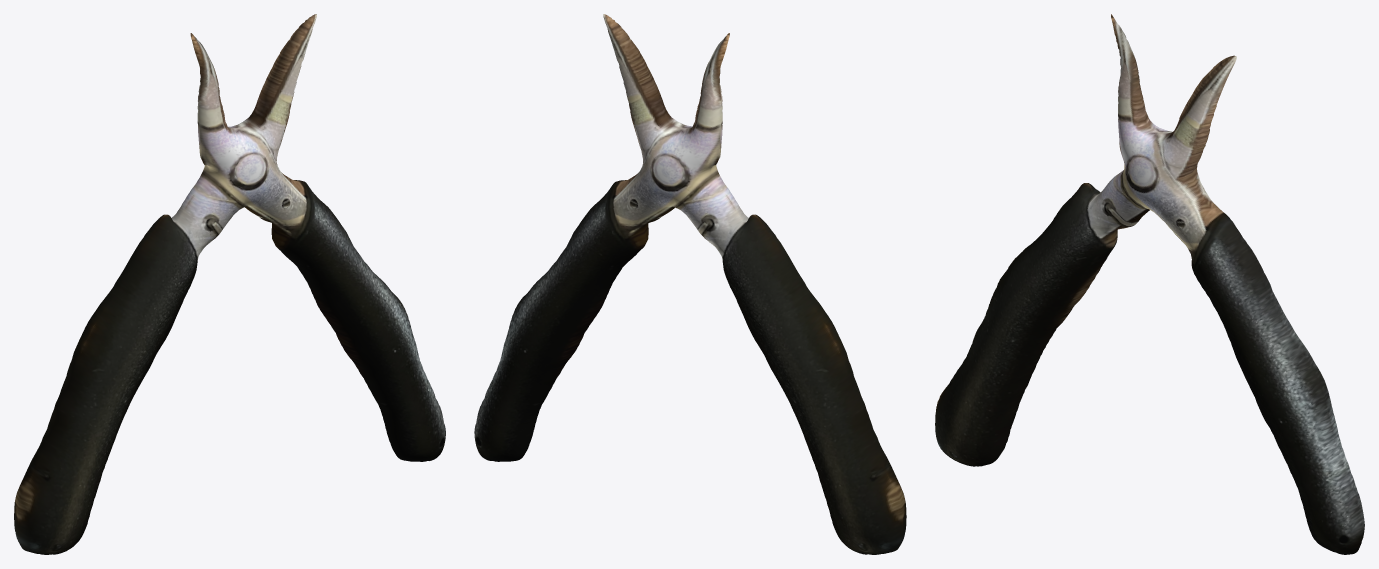
File: asset.glb
3 views of the same model, side by side, from view 1: azimuth 30°, elevation 25°; view 2: azimuth 150°, elevation 25°; view 3: azimuth 330°, elevation 25° (orthographic).
Visible parts, largest first — view 1: f6f618a6-ff83-4721-a177-fc8a6f540c31; view 2: f6f618a6-ff83-4721-a177-fc8a6f540c31; view 3: f6f618a6-ff83-4721-a177-fc8a6f540c31.
Part boxes in pixels (bbox=[...]): f6f618a6-ff83-4721-a177-fc8a6f540c31: bbox=[14, 14, 445, 554]; f6f618a6-ff83-4721-a177-fc8a6f540c31: bbox=[474, 14, 906, 554]; f6f618a6-ff83-4721-a177-fc8a6f540c31: bbox=[935, 14, 1364, 554].
Size of the model in its own units: 4.93 by 5.38 by 0.7386.
1 material, 1 textured.
